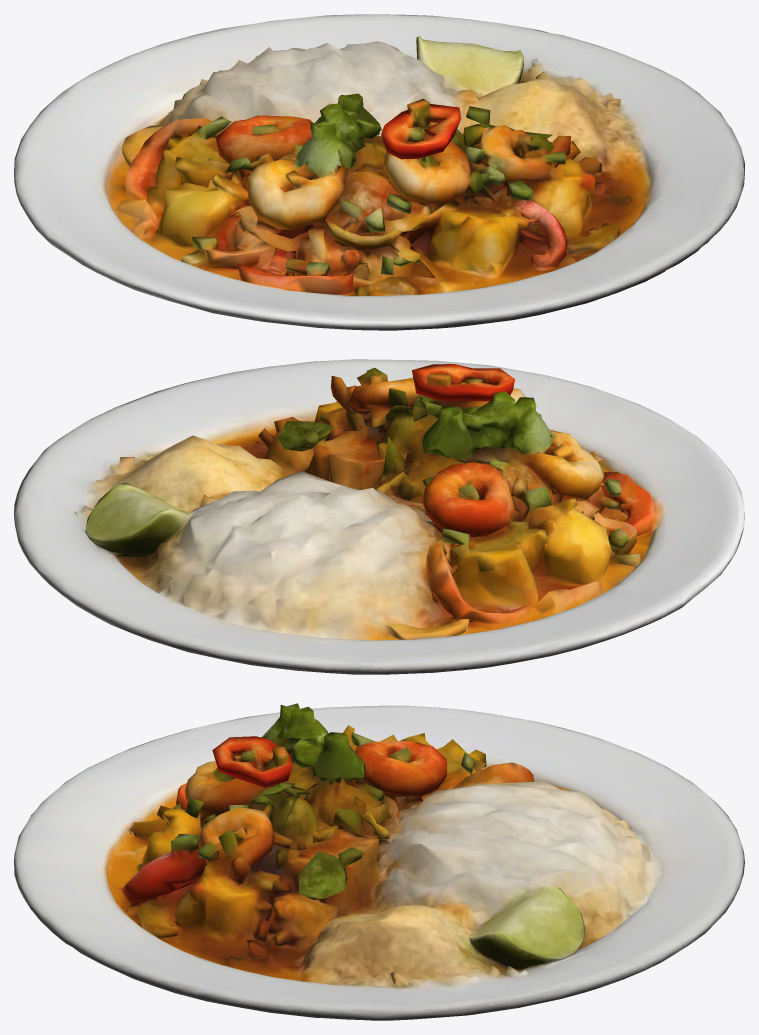
The model's file is moqueca_bahiana.glb.
3 views of the same model, one above another, from view 1: azimuth 30°, elevation 25°; view 2: azimuth 150°, elevation 25°; view 3: azimuth 270°, elevation 25° (orthographic).
Visible parts, largest first — view 1: tripo_node_8de16897-790d-4e3f-92eb-ba5d8108df78; view 2: tripo_node_8de16897-790d-4e3f-92eb-ba5d8108df78; view 3: tripo_node_8de16897-790d-4e3f-92eb-ba5d8108df78.
Part boxes in pixels (box(x1,y1,x2,y2)): tripo_node_8de16897-790d-4e3f-92eb-ba5d8108df78: box(14, 14, 744, 330); tripo_node_8de16897-790d-4e3f-92eb-ba5d8108df78: box(14, 359, 744, 674); tripo_node_8de16897-790d-4e3f-92eb-ba5d8108df78: box(14, 703, 744, 1020).
Size of the model in its own units: 1 by 0.2289 by 0.999.
1 material, 1 textured.
